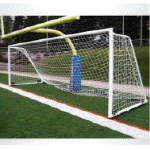goals: (7, 27, 150, 121)
